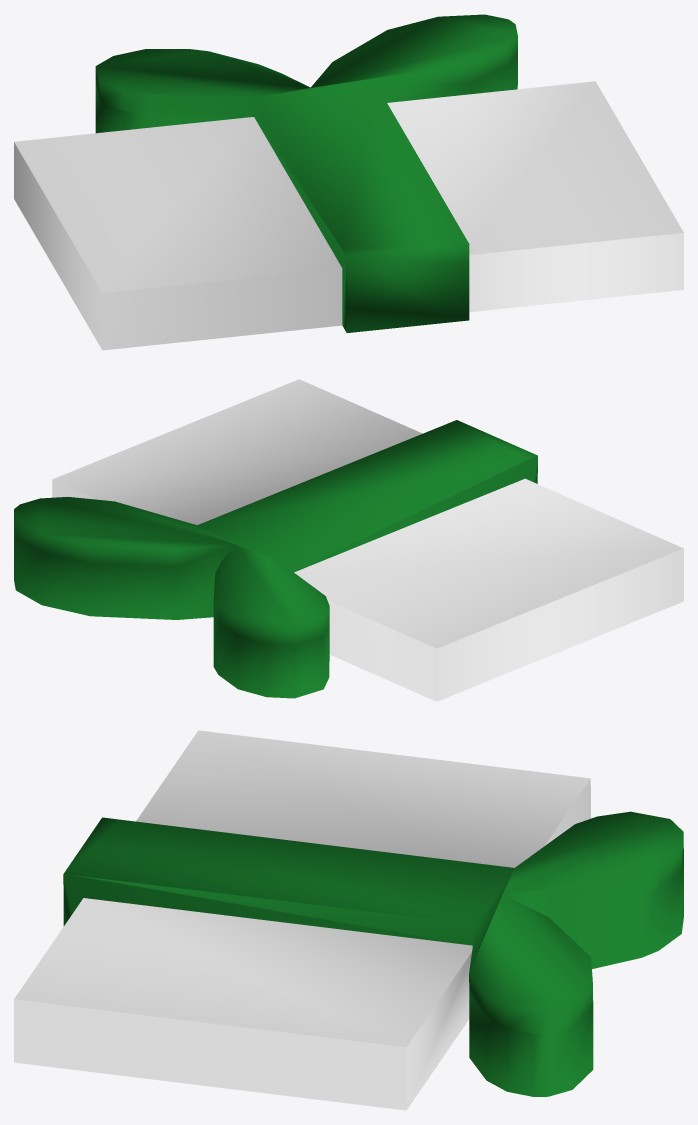
File: green_present.glb
3 renders of one model, top to bottom at view 1: azimuth 30°, elevation 25°; view 2: azimuth 150°, elevation 25°; view 3: azimuth 270°, elevation 25°, orthographic. The views are drawn at different scales.
Parts seen in each view (by area): view 1: Plane.006; view 2: Plane.006; view 3: Plane.006.
Boxes of the visible parts, x1,y1,x2,y2 form: Plane.006: [14, 14, 683, 350]; Plane.006: [14, 379, 683, 701]; Plane.006: [14, 730, 683, 1110].
Bounding box in the file's own units: 1.2 × 0.1517 × 1.07.
